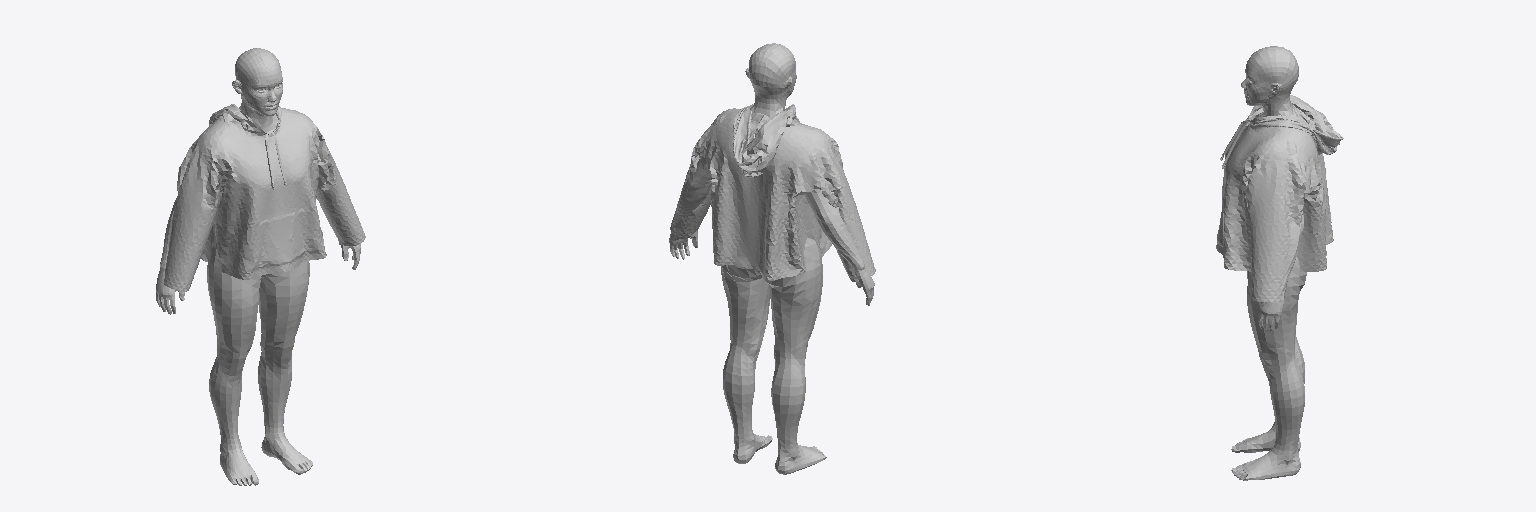
The model's file is avatar.obj.
3 renders of one model, left to right at view 1: azimuth 30°, elevation 25°; view 2: azimuth 150°, elevation 25°; view 3: azimuth 270°, elevation 25°, orthographic.
Parts seen in each view (by area): view 1: uploads_files_[number redacted]_Hoodie_MD, Realistic_White_Female_Low_Poly; view 2: uploads_files_[number redacted]_Hoodie_MD, Realistic_White_Female_Low_Poly; view 3: uploads_files_[number redacted]_Hoodie_MD, Realistic_White_Female_Low_Poly.
Boxes of the visible parts, x1,y1,x2,y2 form: uploads_files_[number redacted]_Hoodie_MD: [164, 104, 365, 291]; Realistic_White_Female_Low_Poly: [156, 48, 360, 485]; uploads_files_[number redacted]_Hoodie_MD: [670, 104, 875, 281]; Realistic_White_Female_Low_Poly: [669, 43, 874, 474]; uploads_files_[number redacted]_Hoodie_MD: [1216, 95, 1343, 302]; Realistic_White_Female_Low_Poly: [1231, 46, 1306, 480].
Bounding box in the file's own units: 0.7979 × 1.56 × 0.4361.